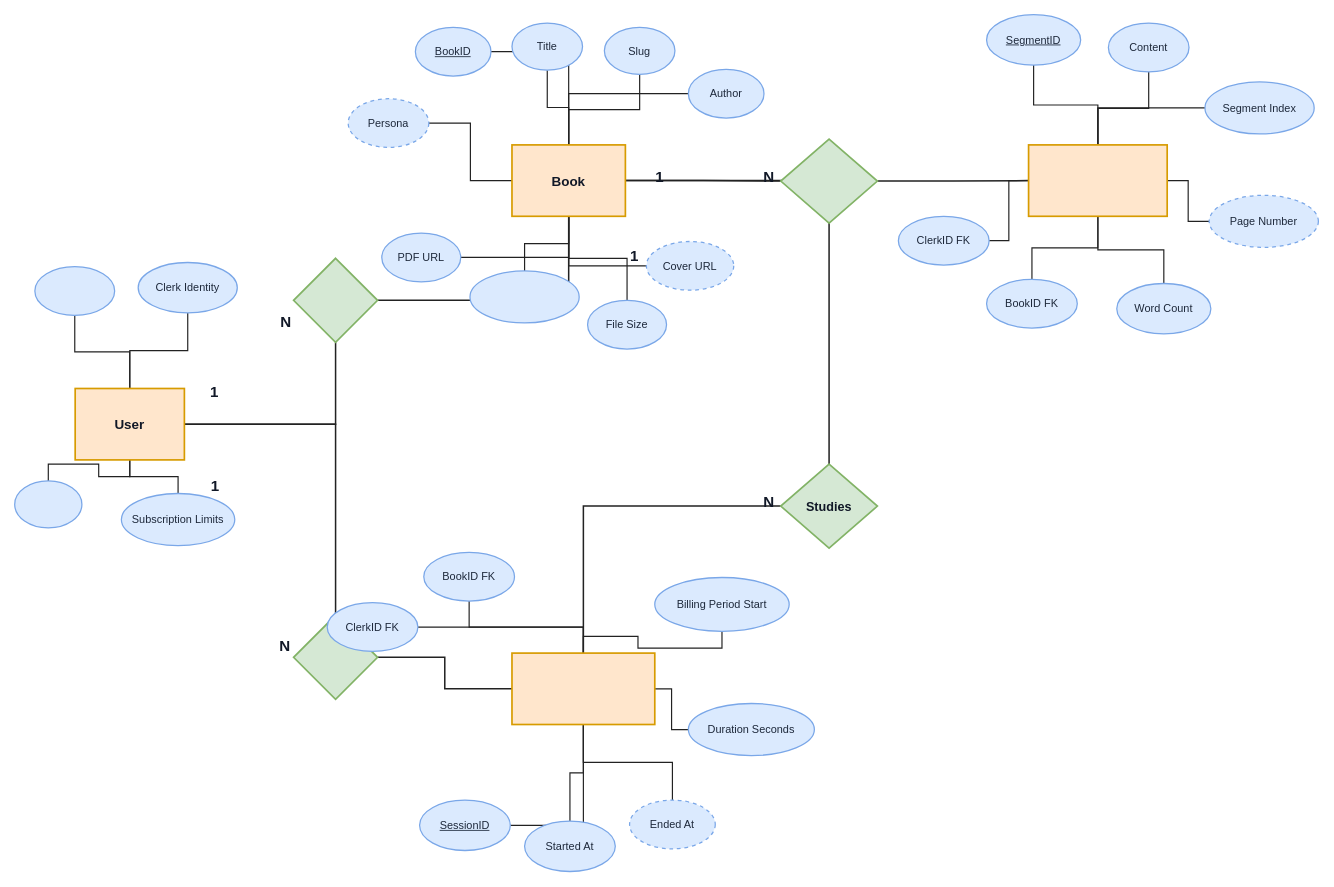
The diagram is 1334 pixels wide and 887 high, and some of its shapes have lost their labels. The box of each missing label's shape, as (x1, y1, x2, y2) in pixels:
BookSegment: (1027, 144, 1168, 217)
ClerkID: (34, 266, 115, 316)
Contains: (780, 138, 878, 223)
Owns: (292, 257, 378, 343)
Plan: (14, 480, 82, 528)
Starts: (292, 614, 378, 700)
Total Segments: (469, 270, 579, 323)
VoiceSession: (511, 652, 655, 725)
